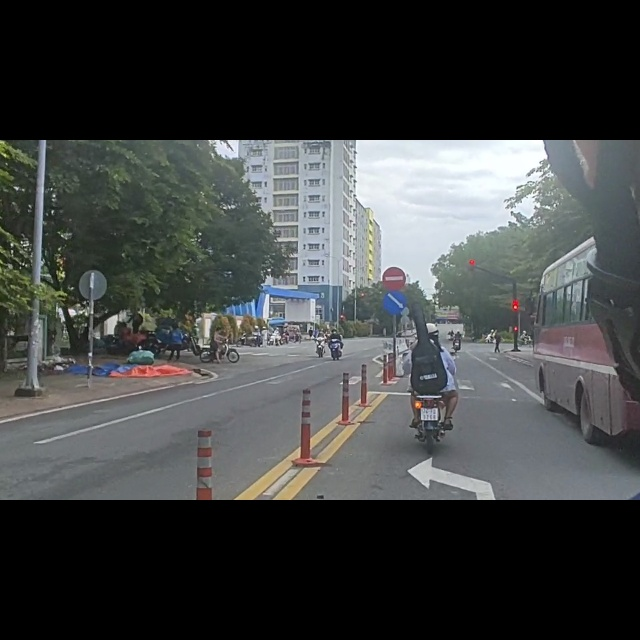bien_hieu_lenh: (381, 268, 413, 312), (381, 225, 409, 271)
